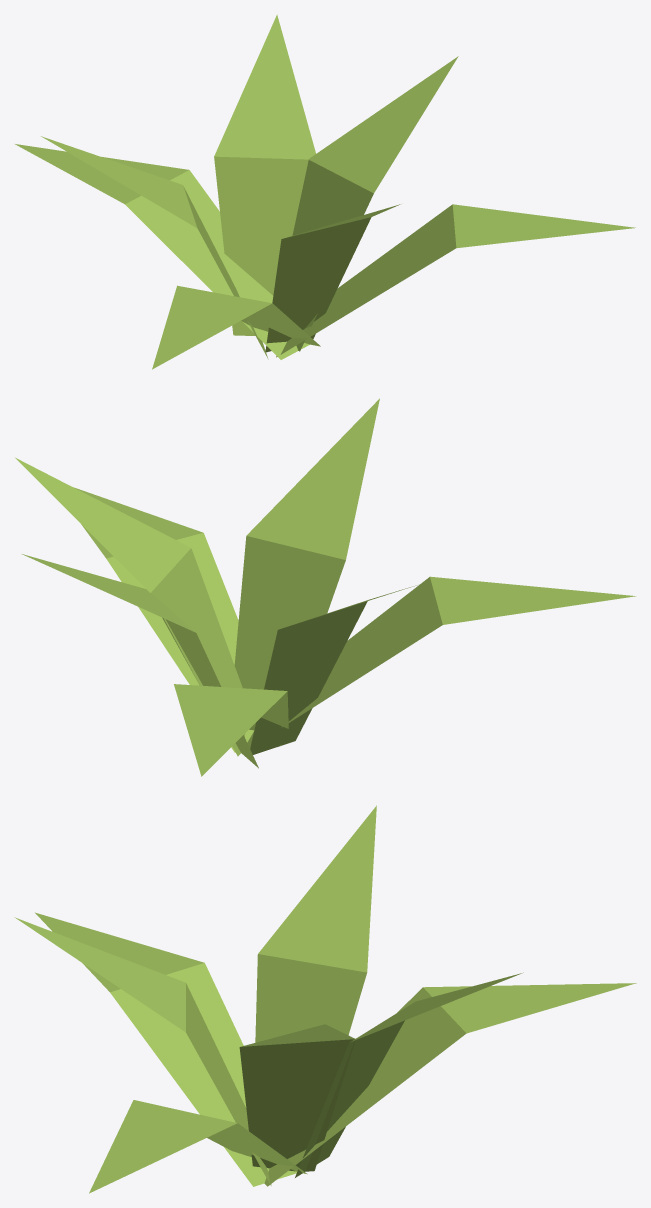
File: grass05.fbx
3 views of the same model, one above another, from view 1: azimuth 30°, elevation 25°; view 2: azimuth 150°, elevation 25°; view 3: azimuth 270°, elevation 25° (orthographic). The views are drawn at different scales.
Visible parts, largest first — view 1: grass_05; view 2: grass_05; view 3: grass_05.
Part boxes in pixels (left/top/right/bottom): grass_05: left=15, top=14, right=635, bottom=369; grass_05: left=15, top=398, right=636, bottom=776; grass_05: left=14, top=805, right=636, bottom=1193.
Bounding box in the file's own units: 0.9002 × 0.8423 × 0.3824.
